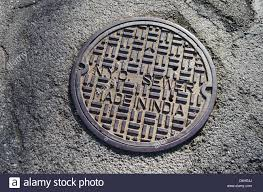manhole: (58, 4, 232, 168)
